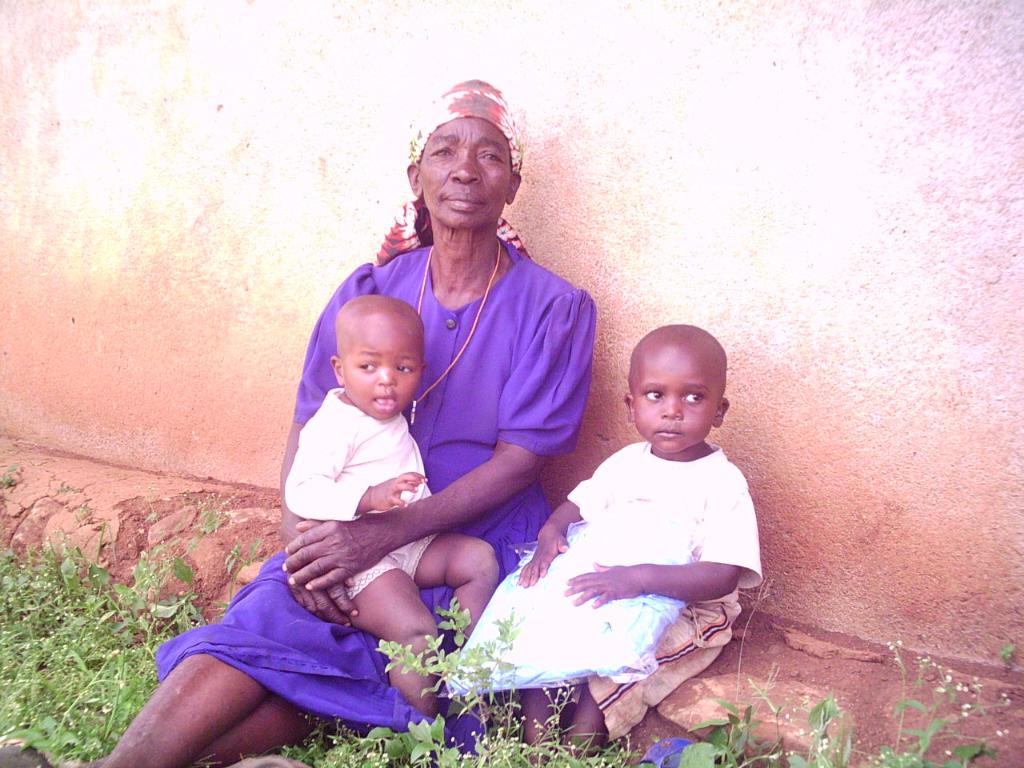Person: (77, 78, 595, 767)
